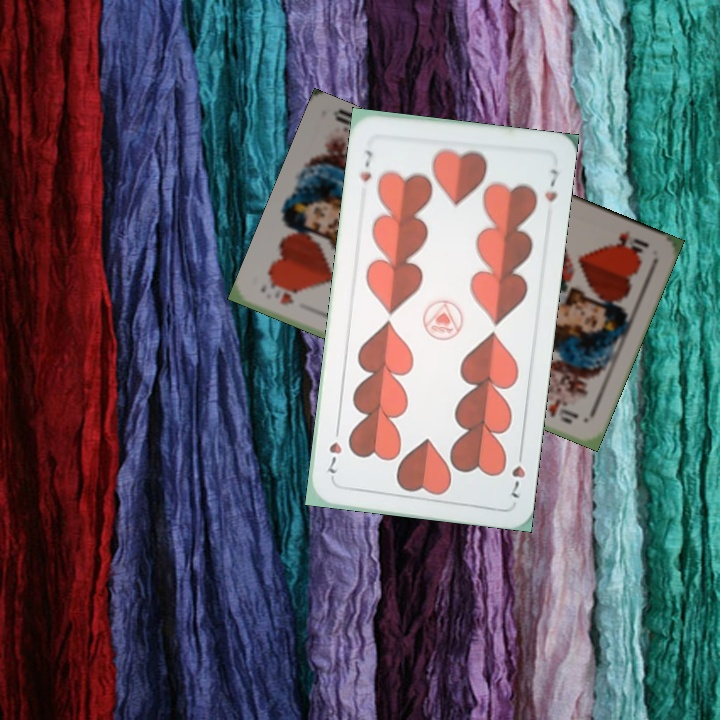H7: (506, 445, 528, 501), (356, 146, 376, 185)
HO: (605, 226, 652, 260), (265, 279, 299, 308)
